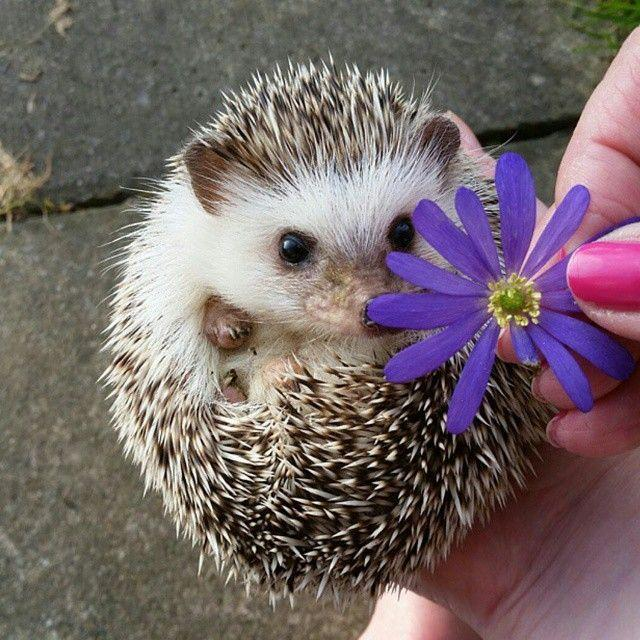Hedgehog: (102, 58, 554, 598)
